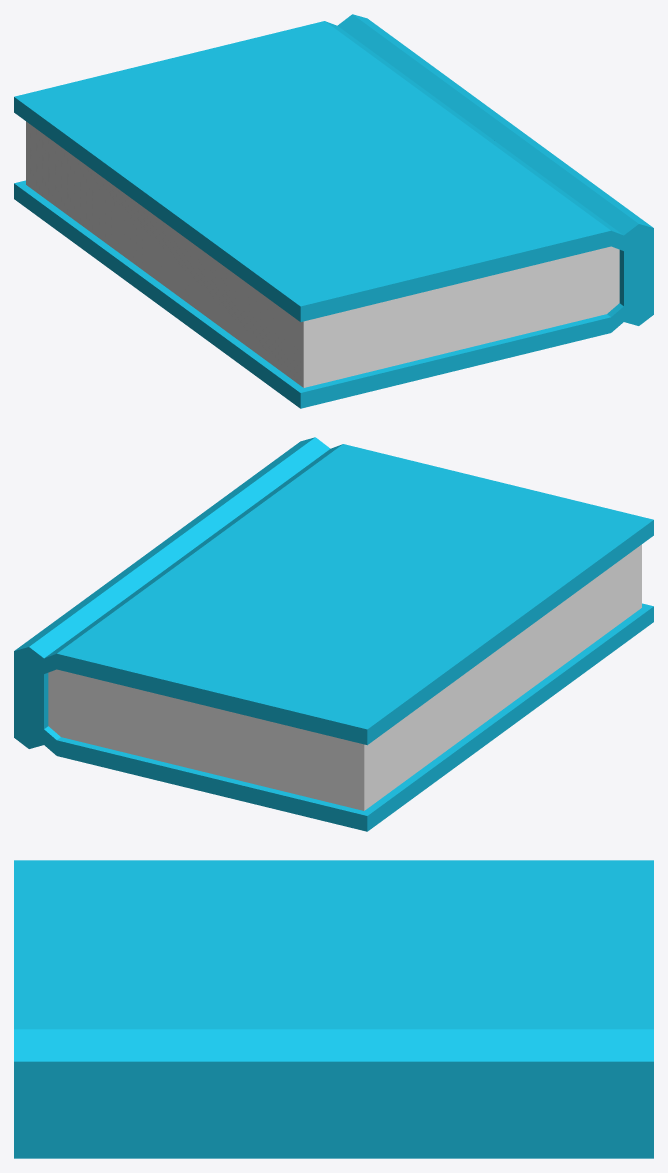
The model's file is book.gltf.
3 renders of one model, top to bottom at view 1: azimuth 30°, elevation 25°; view 2: azimuth 150°, elevation 25°; view 3: azimuth 270°, elevation 25°, orthographic. The views are drawn at different scales.
Visible parts, largest first — view 1: model; view 2: model; view 3: model.
Part boxes in pixels (x1=…): model: x1=14, y1=14, x2=653, y2=408; model: x1=14, y1=437, x2=653, y2=831; model: x1=14, y1=860, x2=653, y2=1158.
Bounding box in the file's own units: 0.188 × 0.052 × 0.264.
